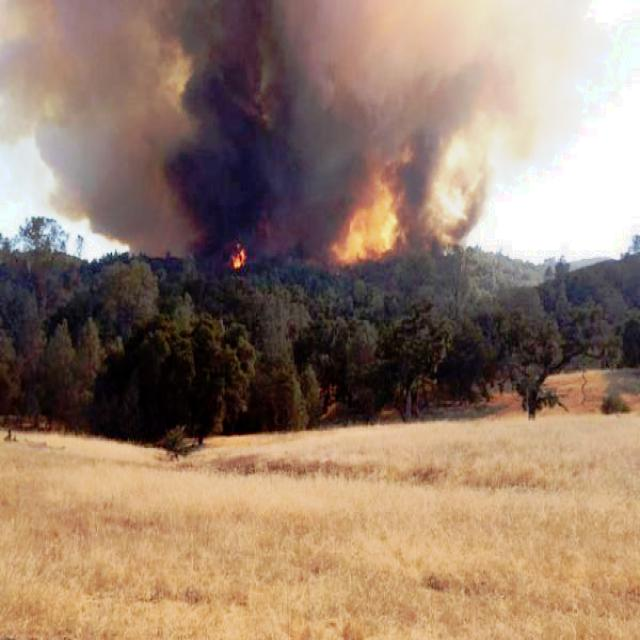asap: (1, 1, 628, 260)
